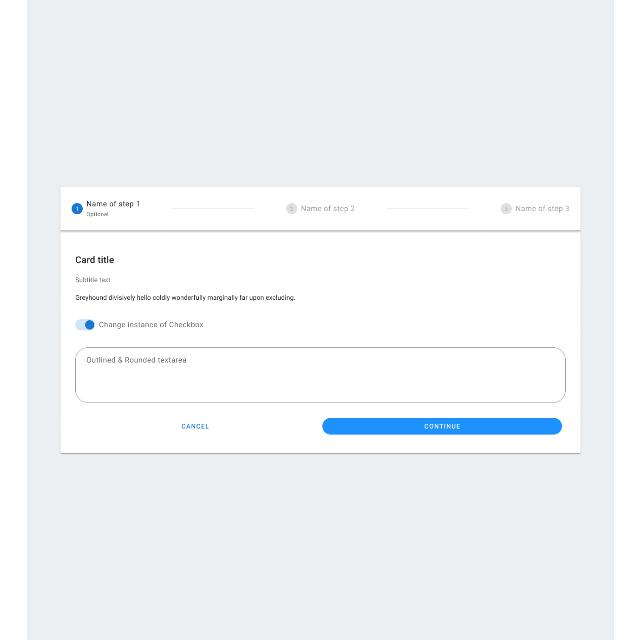QLabel: (73, 294, 294, 302), (98, 322, 202, 331), (514, 205, 570, 213), (85, 200, 139, 208), (300, 205, 354, 213), (73, 256, 114, 264), (422, 422, 460, 430), (73, 276, 109, 284), (180, 422, 208, 430), (84, 210, 108, 218)
VBtn: (321, 418, 561, 434)
VDivider: (170, 207, 254, 210), (385, 208, 469, 210)
VStepper: (57, 185, 583, 457)
VSwitch: (74, 319, 95, 331)
VTextarea: (74, 346, 566, 404)
